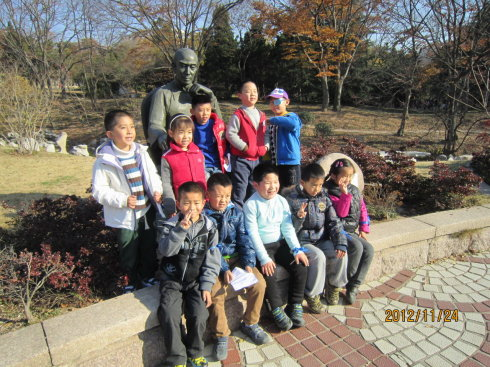handsup: (156, 180, 224, 363), (322, 148, 389, 303)
other: (89, 109, 167, 297), (240, 169, 323, 336), (159, 106, 219, 231), (224, 77, 274, 211)
